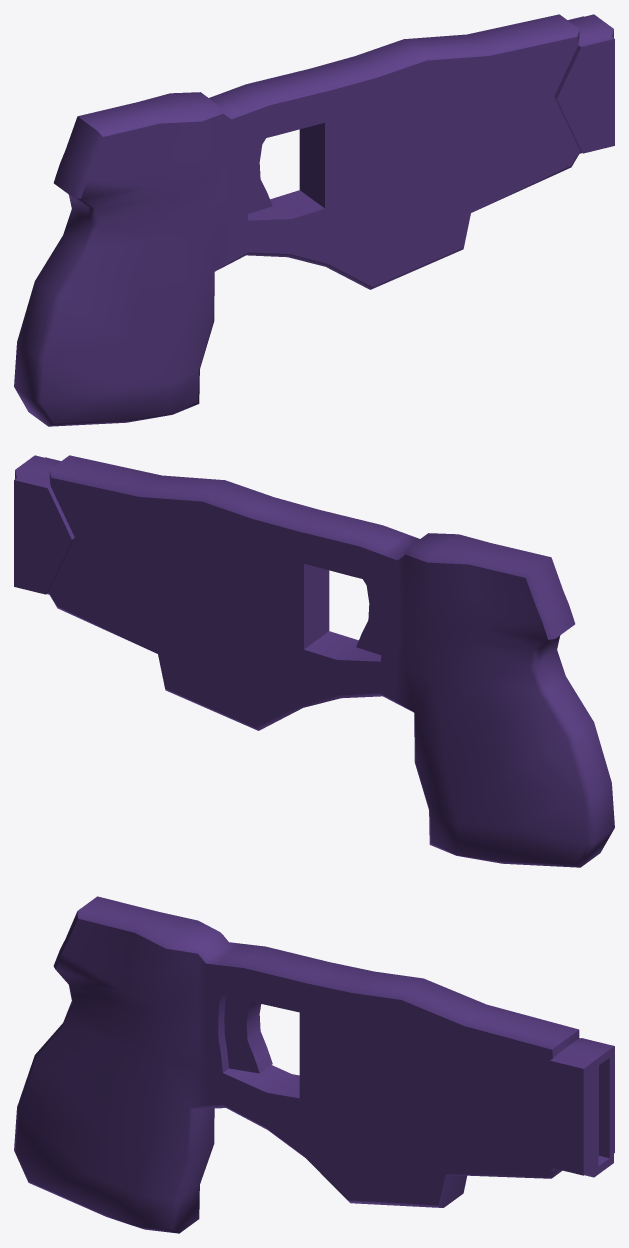
File: Taser.fbx
The picture shows the model from 3 angles, top to bottom: view 1: azimuth 30°, elevation 25°; view 2: azimuth 150°, elevation 25°; view 3: azimuth 330°, elevation 25°; orthographic projection.
Visible parts, largest first — view 1: taser; view 2: taser; view 3: taser.
Boxes of the visible parts, box(x1,y1,x2,y2) form: taser: box(14, 14, 614, 426); taser: box(14, 455, 614, 867); taser: box(14, 896, 614, 1233).
Bounding box in the file's own units: 18.9 × 9.31 × 2.01.
